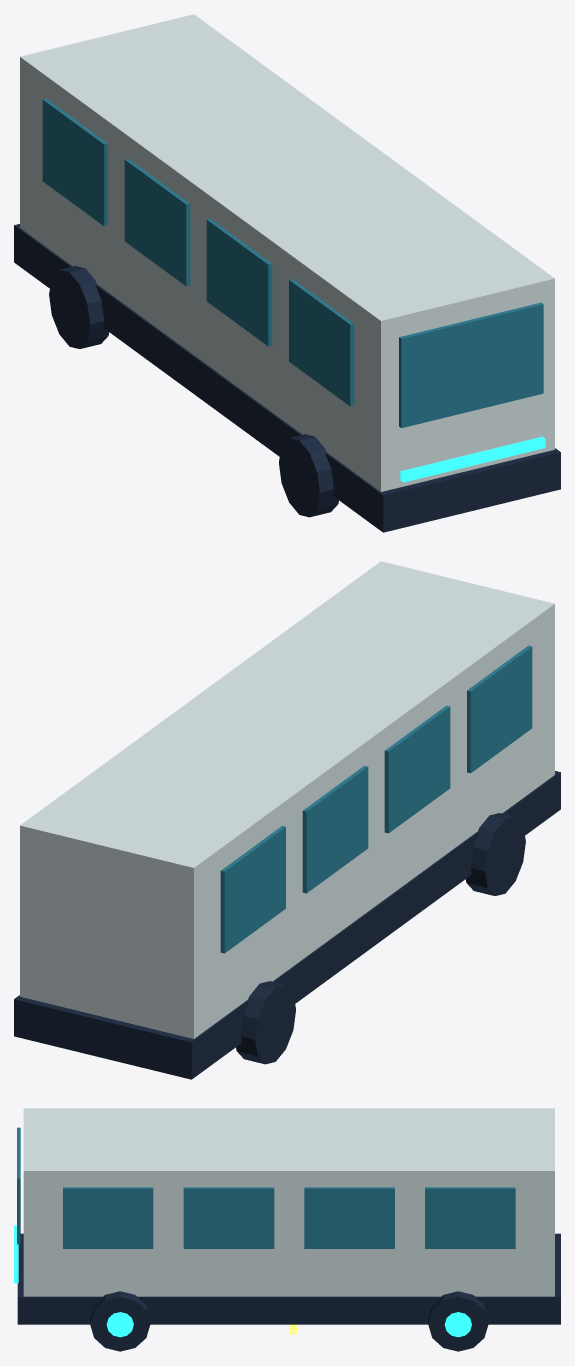
The model's file is PROP_bus_20261005.glb.
3 renders of one model, top to bottom at view 1: azimuth 30°, elevation 25°; view 2: azimuth 150°, elevation 25°; view 3: azimuth 270°, elevation 25°, orthographic. The views are drawn at different scales.
Parts seen in each view (by area): view 1: VEH_BusBody, VEH_BusChassis, VEH_BusFront, VEH_BusWindows.002, VEH_BusWindows.004, VEH_BusWindows, VEH_BusWindows.006, VEH_Wheel, VEH_Wheel.001, VEH_BusNeon; view 2: VEH_BusBody, VEH_BusChassis, VEH_BusWindows.002, VEH_BusWindows.004, VEH_BusWindows, VEH_BusWindows.006, VEH_Wheel.001, VEH_Wheel; view 3: VEH_BusBody, VEH_BusChassis, VEH_BusWindows.005, VEH_BusWindows.001, VEH_BusWindows.003, VEH_BusWindows.007, VEH_Wheel.002, VEH_Wheel.003, VEH_Hub.002, VEH_Hub.003, VEH_BusFront.
Boxes of the visible parts, left/top/right/bottom form: VEH_BusBody: left=20, top=14, right=554, bottom=491; VEH_BusChassis: left=14, top=224, right=560, bottom=532; VEH_BusFront: left=399, top=302, right=543, bottom=428; VEH_BusWindows.002: left=124, top=158, right=190, bottom=286; VEH_BusWindows.004: left=206, top=218, right=272, bottom=346; VEH_BusWindows: left=42, top=98, right=107, bottom=226; VEH_BusWindows.006: left=289, top=279, right=354, bottom=406; VEH_Wheel: left=49, top=266, right=109, bottom=348; VEH_Wheel.001: left=279, top=434, right=338, bottom=517; VEH_BusNeon: left=400, top=436, right=545, bottom=482; VEH_BusBody: left=20, top=561, right=554, bottom=1038; VEH_BusChassis: left=14, top=771, right=560, bottom=1079; VEH_BusWindows.002: left=302, top=765, right=368, bottom=893; VEH_BusWindows.004: left=384, top=705, right=450, bottom=833; VEH_BusWindows: left=220, top=826, right=285, bottom=953; VEH_BusWindows.006: left=467, top=645, right=532, bottom=773; VEH_Wheel.001: left=465, top=813, right=525, bottom=895; VEH_Wheel: left=236, top=981, right=295, bottom=1064; VEH_BusBody: left=23, top=1108, right=554, bottom=1296; VEH_BusChassis: left=17, top=1233, right=560, bottom=1324; VEH_BusWindows.005: left=183, top=1187, right=274, bottom=1248; VEH_BusWindows.001: left=425, top=1187, right=515, bottom=1248; VEH_BusWindows.003: left=304, top=1187, right=394, bottom=1248; VEH_BusWindows.007: left=63, top=1187, right=153, bottom=1248; VEH_Wheel.002: left=428, top=1291, right=488, bottom=1351; VEH_Wheel.003: left=90, top=1291, right=150, bottom=1351; VEH_Hub.002: left=444, top=1312, right=471, bottom=1337; VEH_Hub.003: left=106, top=1312, right=133, bottom=1337; VEH_BusFront: left=17, top=1127, right=20, bottom=1244.
Size of the model in its own units: 2.93 by 3.21 by 9.06.
